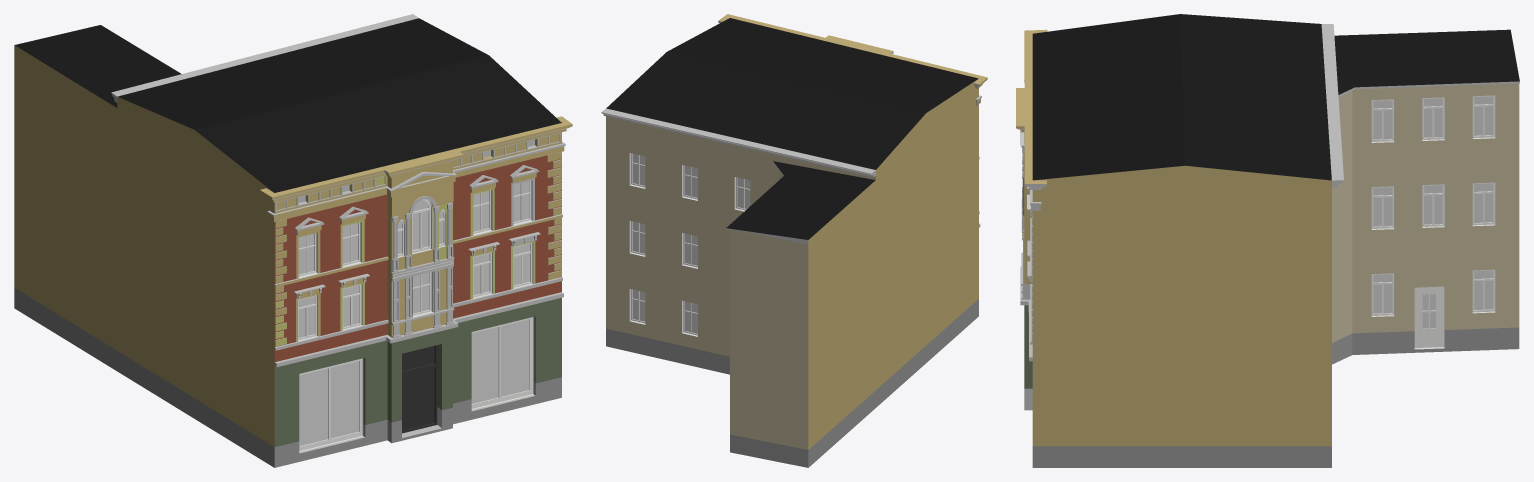
Rendered from Uno.FBX.
The picture shows the model from 3 angles, left to right: view 1: azimuth 30°, elevation 25°; view 2: azimuth 150°, elevation 25°; view 3: azimuth 270°, elevation 25°; orthographic projection. The views are drawn at different scales.
Visible parts, largest first — view 1: Camera_001, OKNO_C24_2; view 2: Camera_001, OKNO_R1_9_001; view 3: Camera_001, OKNO_R3002, DRZWI_R9_1.
Boxes of the visible parts, bbox=[...] form: Camera_001: bbox=[14, 14, 572, 467]; OKNO_C24_2: bbox=[298, 180, 534, 451]; Camera_001: bbox=[601, 14, 987, 467]; OKNO_R1_9_001: bbox=[629, 153, 750, 336]; Camera_001: bbox=[1016, 14, 1519, 467]; OKNO_R3002: bbox=[1371, 95, 1495, 316]; DRZWI_R9_1: bbox=[1414, 286, 1444, 349].
Bounding box in the file's own units: 691 × 585 × 885.
